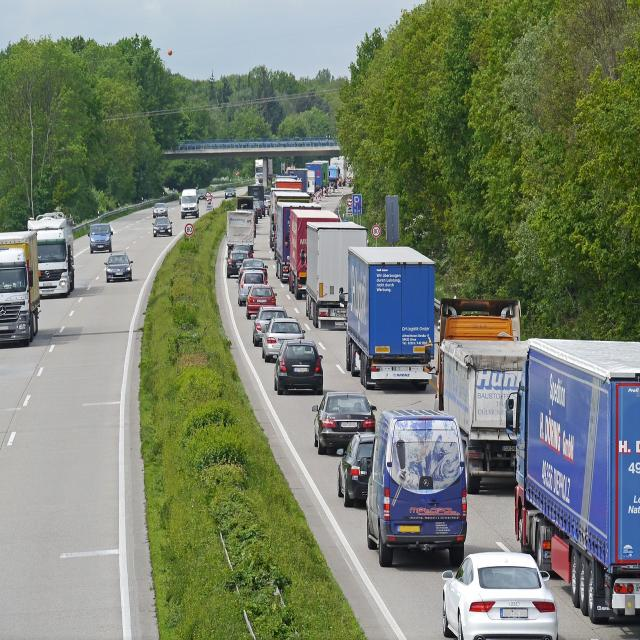no entry: (236, 171, 238, 176)
no overtaking: (206, 192, 212, 202), (346, 198, 352, 206)
